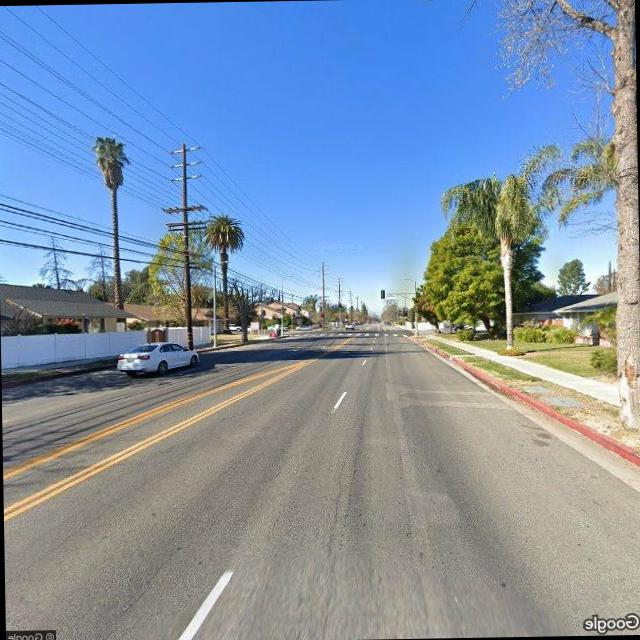pothole: (94, 517, 224, 640)
